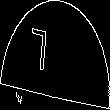L_S: (45, 27, 65, 83)
